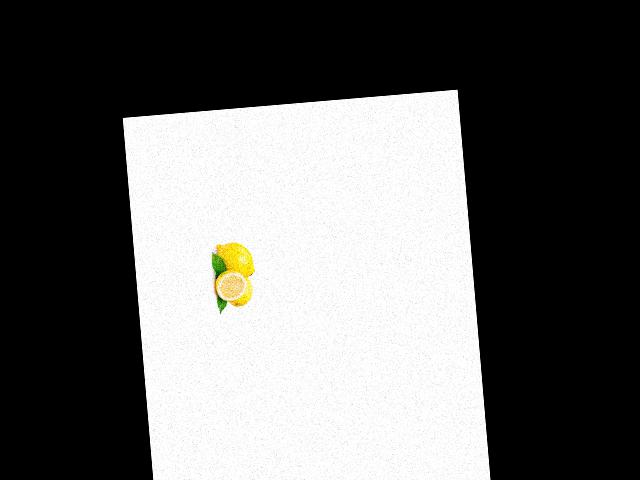lemon: (210, 268, 247, 301)
